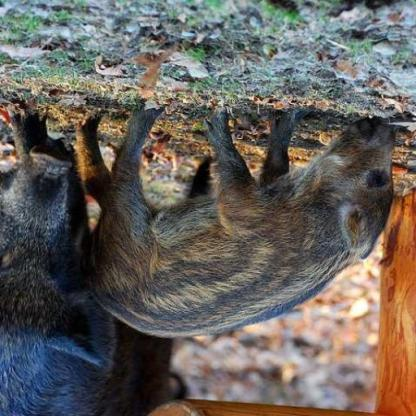boar: (76, 44, 415, 362)
